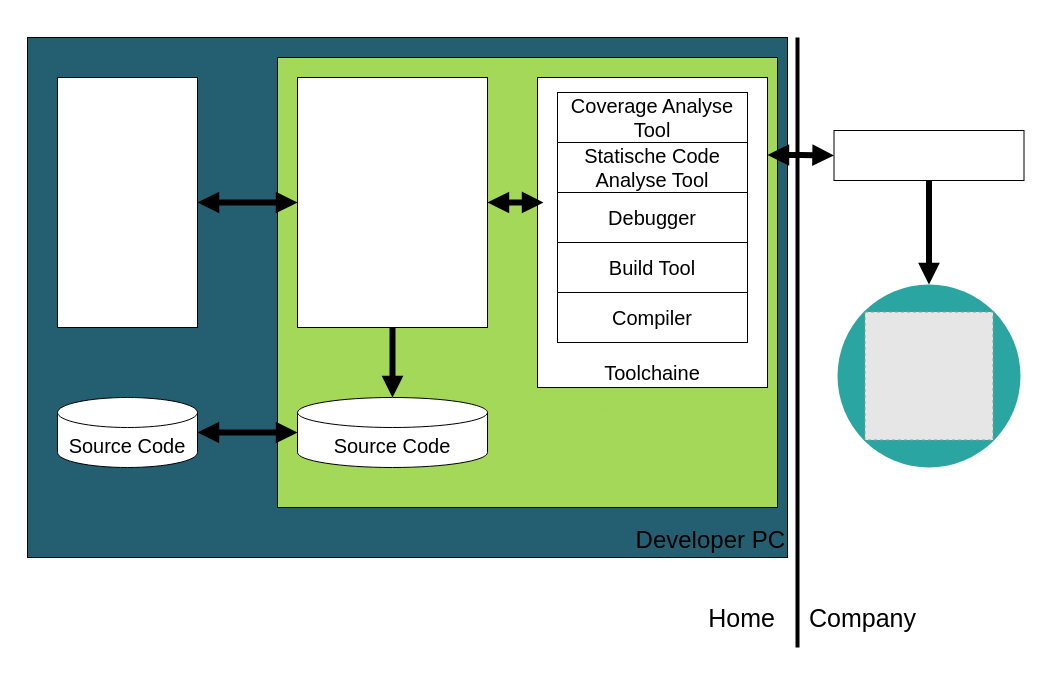
Image size: 1054x674. Some labels were removed from this diagram. Grey dashed boxes stand in for pictures. Each missing label, with the box of its shape:
Container: (276, 56, 778, 508)
Debugger Tool: (833, 130, 1024, 180)
VsCode: (56, 76, 198, 328)
VsCode Server: (296, 76, 488, 328)
